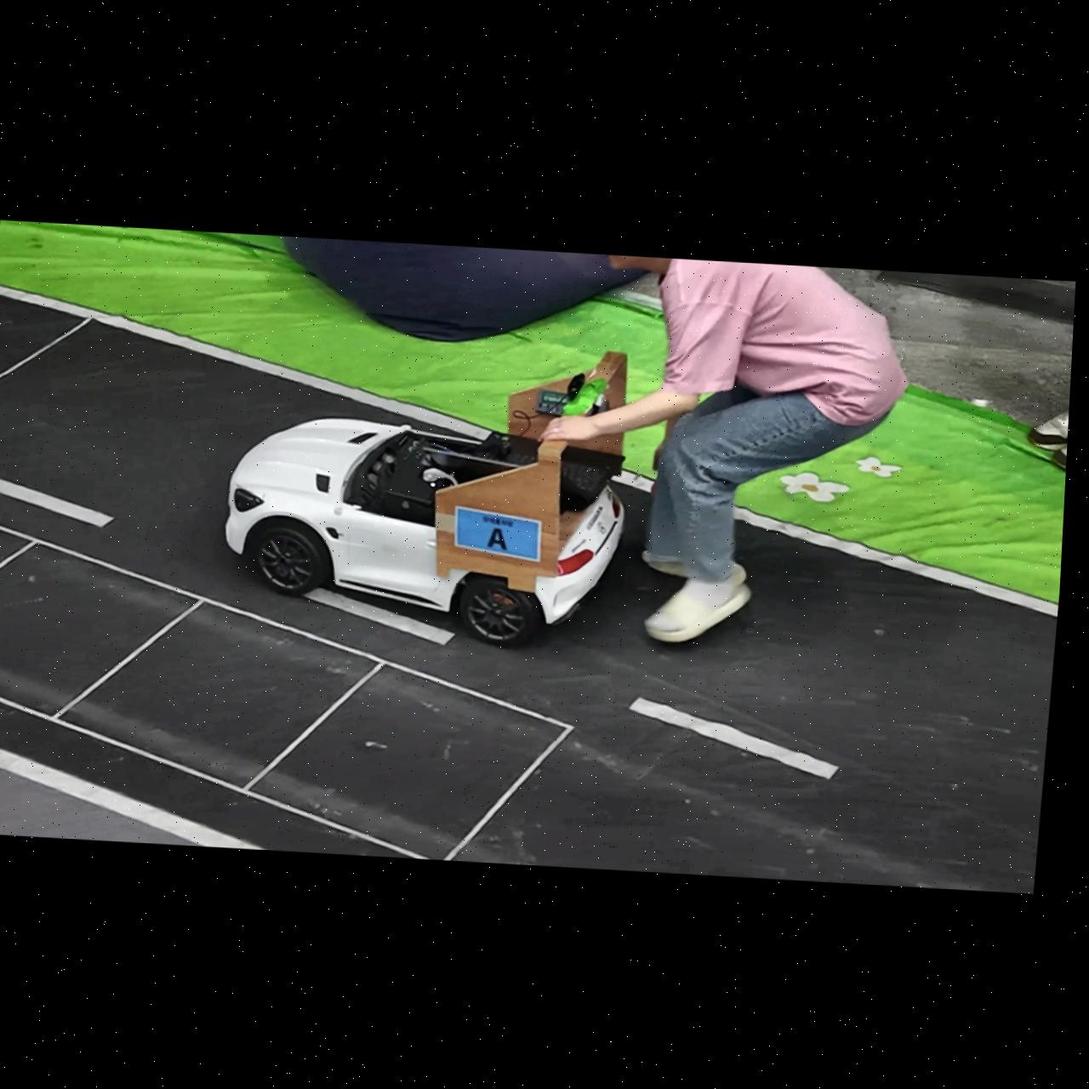broken_line: (630, 697, 838, 778), (302, 587, 456, 644), (0, 478, 114, 527)
